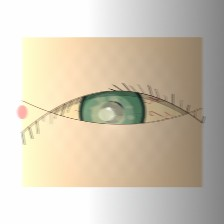corneal_ulcer: (81, 93, 135, 137)
